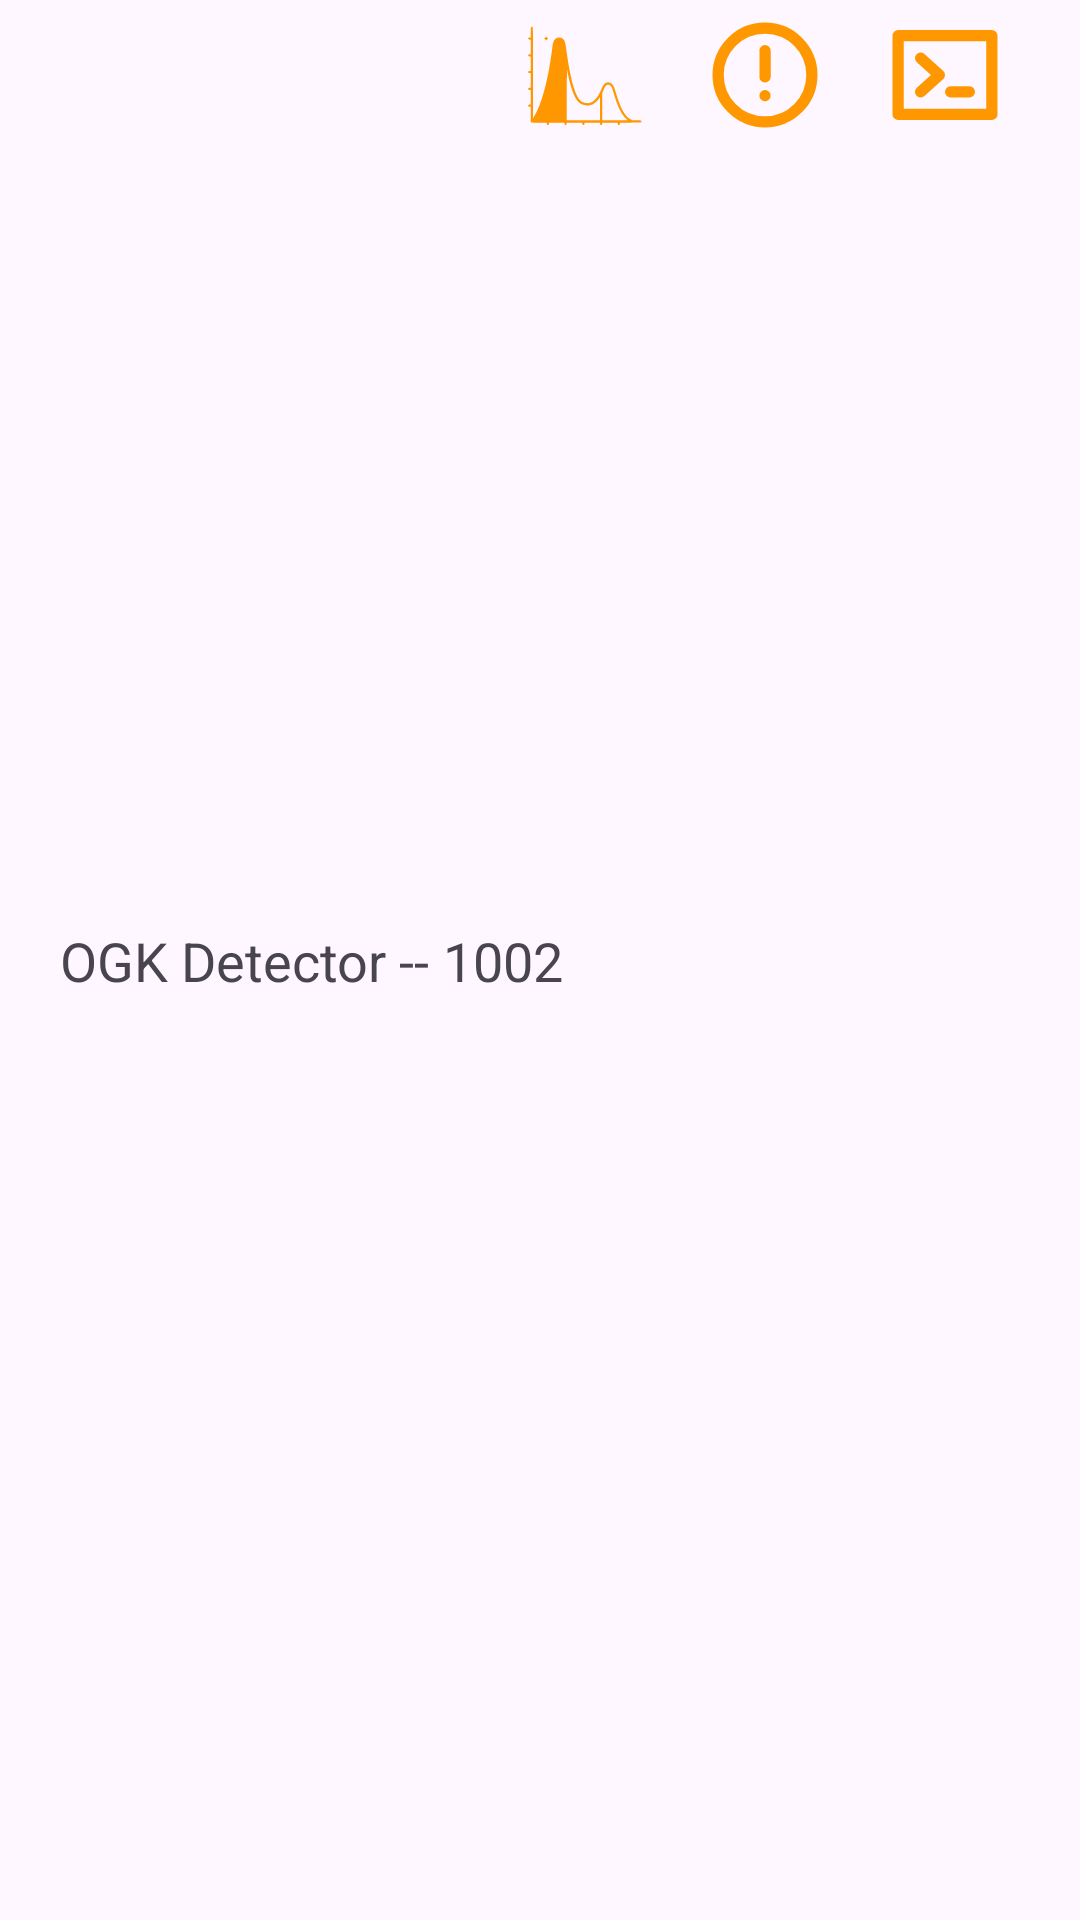

Where icons sit on this 1080×1920 app screen, as (x1, y1, x2, y2):
Device terminal: (892, 30, 998, 120)
Spectrometer mode: (528, 26, 642, 125)
